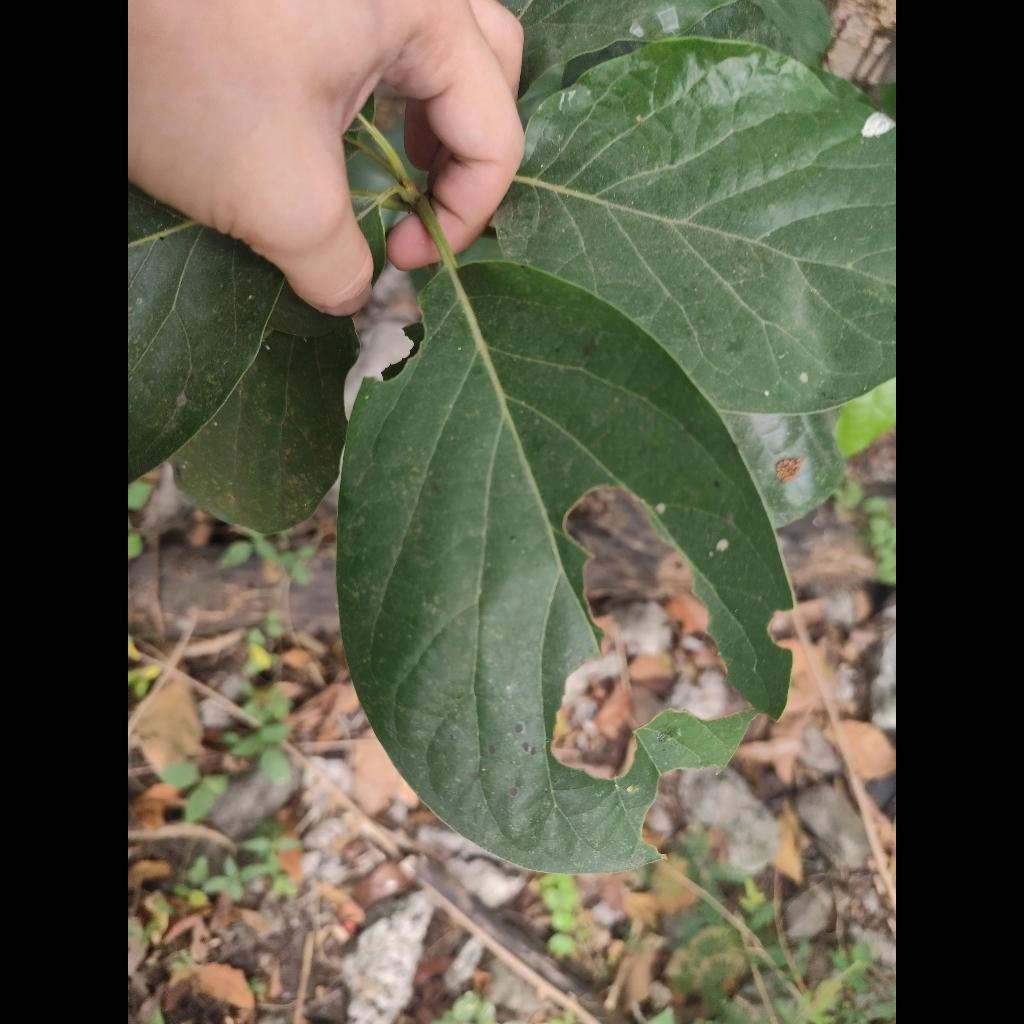Pest Infested: (337, 262, 792, 873)
